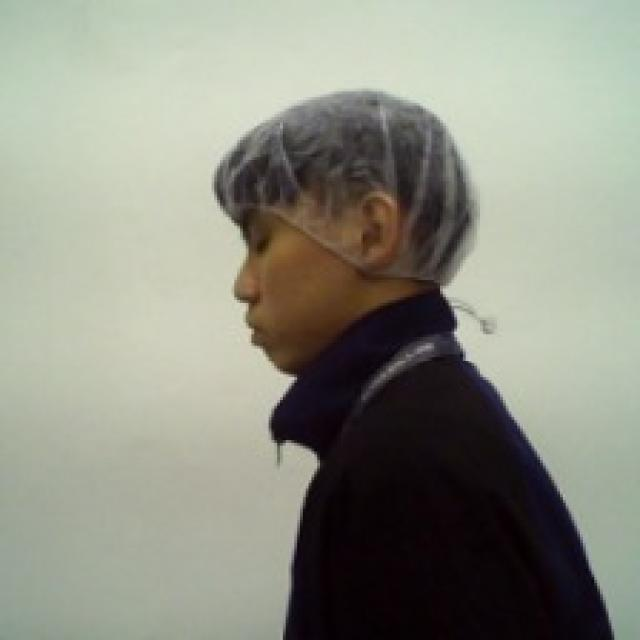gloves: (203, 82, 484, 296)
no_hairnet: (225, 178, 408, 384)
